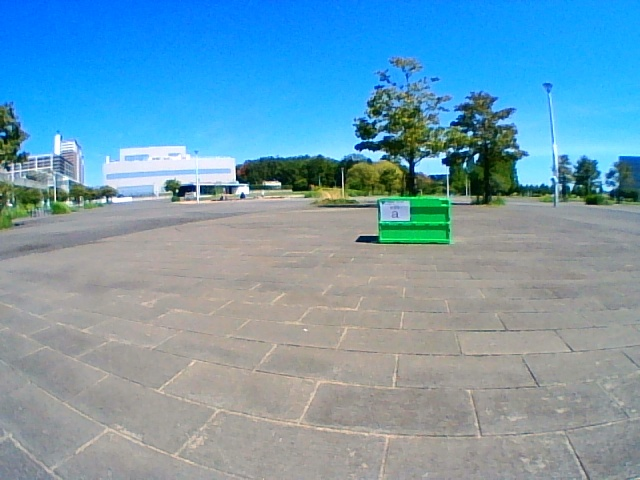green_box: (378, 197, 449, 243)
tag_a: (380, 202, 408, 220)
